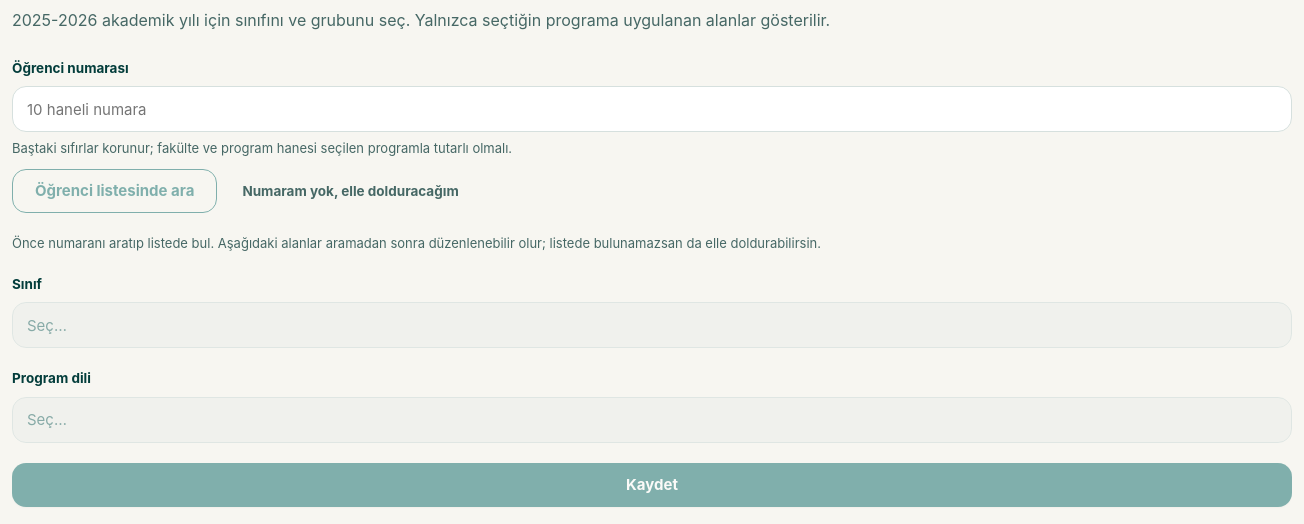
it: AcademicProfileForm roster lookup › lets a student without a number open the fields by hand
This screenshot has width=1304, height=524.
Click the button "Numaram yok, elle dolduracağım".
click(351, 191)  # box top-left (227, 169), bottom-right (474, 213)
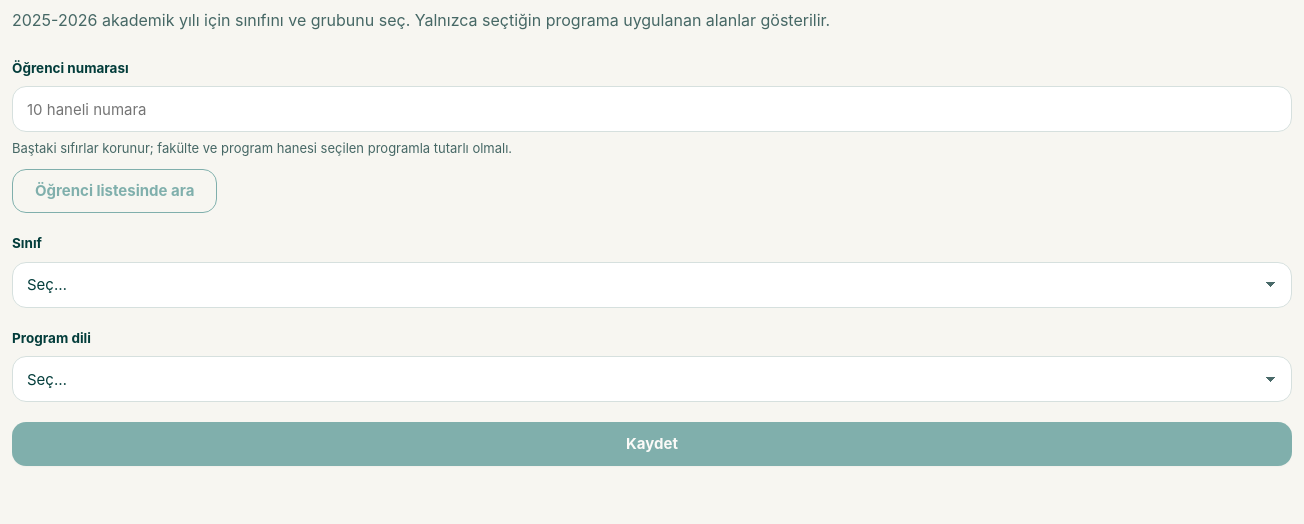
expect the dropdown labelled "Sınıf" is enabled: met, box top-left (12, 262), bottom-right (1292, 308)
expect the button "Numaram yok, elle dolduracağım" is gone: met
